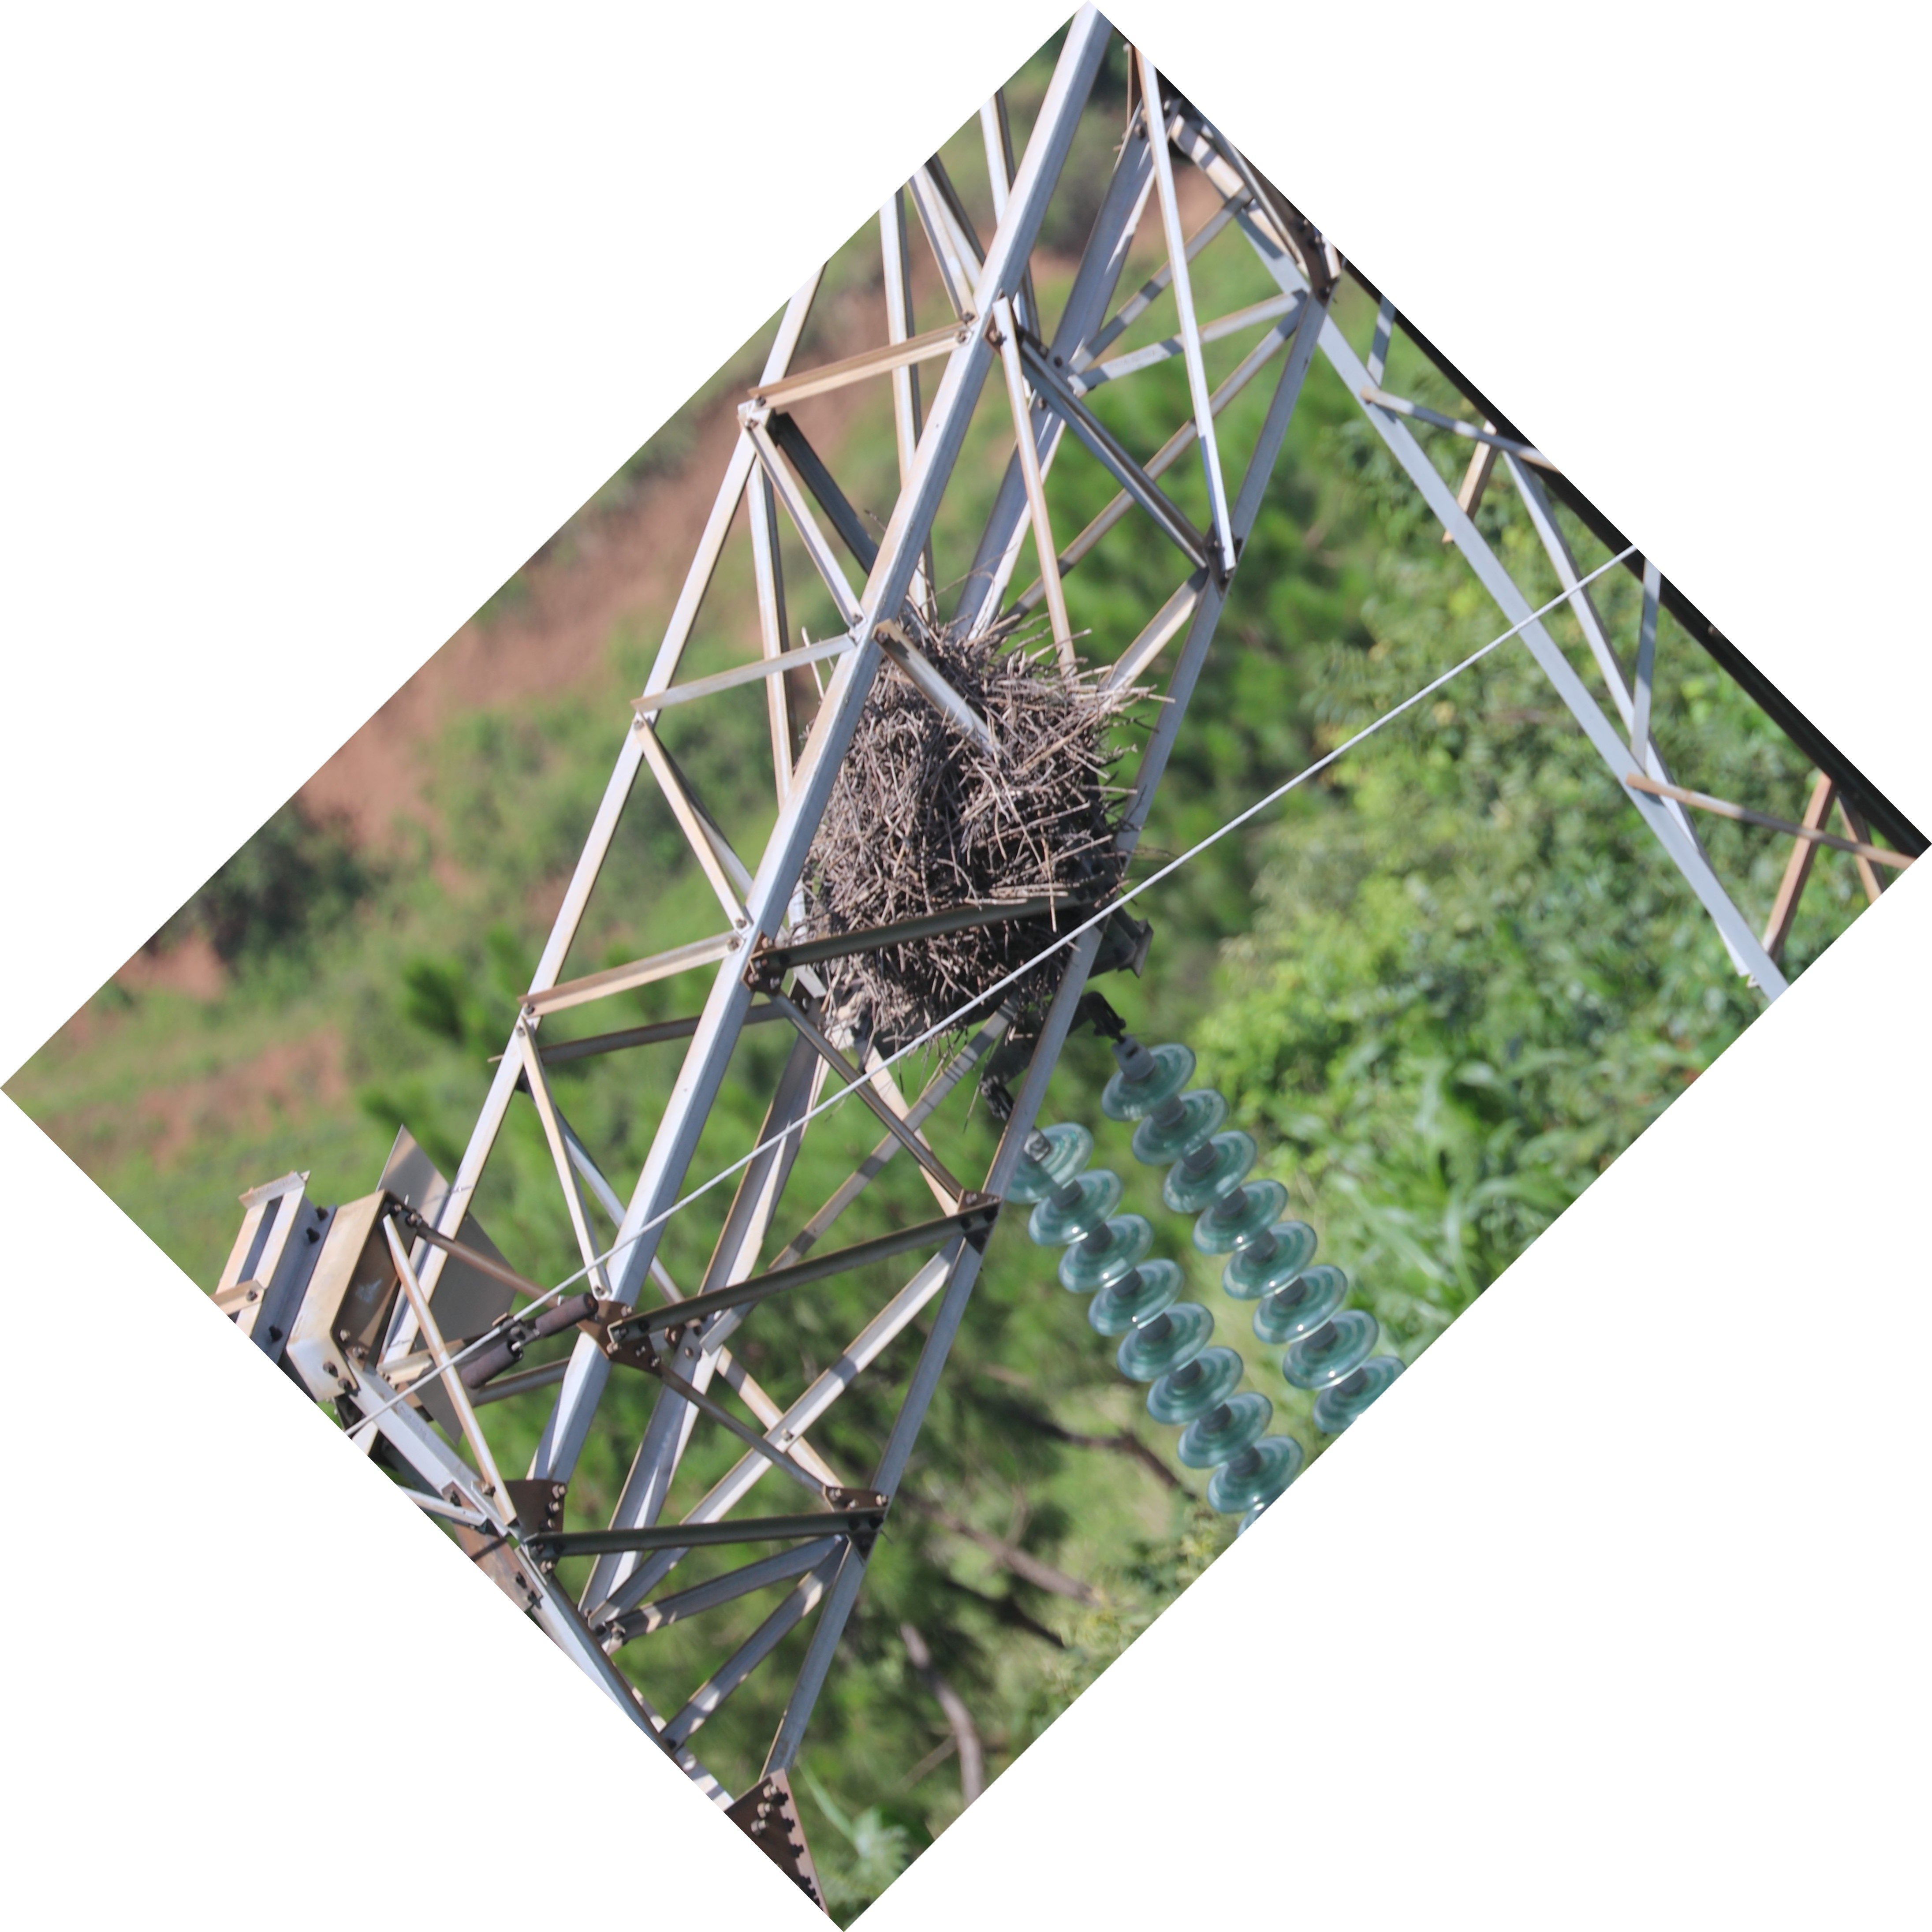niaowo: (747, 594, 1162, 1044)
